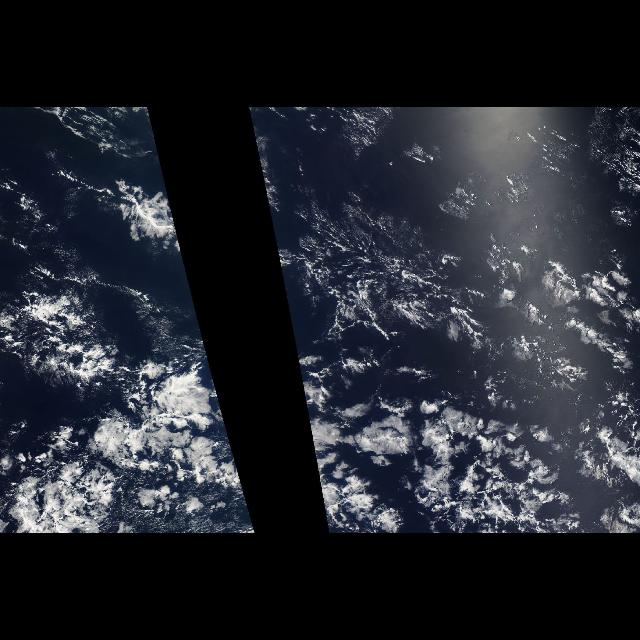Gravel: (6, 279, 240, 533), (412, 405, 582, 533)
Sugar: (295, 176, 445, 282)
